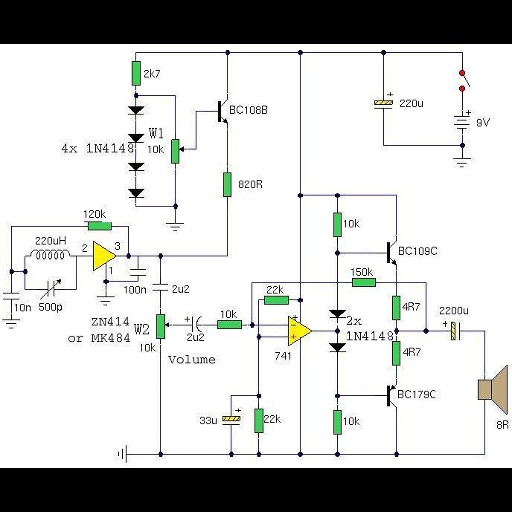amplifier: (89, 238, 117, 272), (286, 313, 313, 348)
battery: (450, 105, 473, 135)
capacitor: (1, 289, 22, 302), (150, 282, 171, 295), (126, 266, 147, 278)
firstdiode: (123, 159, 149, 174), (122, 102, 148, 116), (123, 186, 147, 201), (327, 339, 347, 357), (325, 306, 347, 320), (125, 131, 145, 146)
firstpolarcapacitor: (181, 312, 207, 334)
firstresistance: (327, 407, 344, 440), (218, 168, 234, 200), (82, 219, 116, 234), (388, 339, 403, 372), (128, 58, 143, 89), (213, 318, 246, 332), (329, 208, 343, 239), (389, 293, 403, 324), (347, 276, 380, 289), (251, 406, 265, 436), (262, 293, 291, 307)
gnd: (448, 156, 475, 170), (1, 316, 20, 333), (114, 441, 128, 464), (93, 295, 118, 307), (164, 221, 187, 233)
inductor: (25, 247, 74, 261)
loudspeaker: (474, 362, 510, 418)
npn: (207, 93, 230, 126), (380, 236, 399, 269)
pnp: (376, 378, 399, 410)
secondpolarcapacitor: (220, 404, 244, 429), (370, 90, 395, 114), (440, 320, 465, 343)
